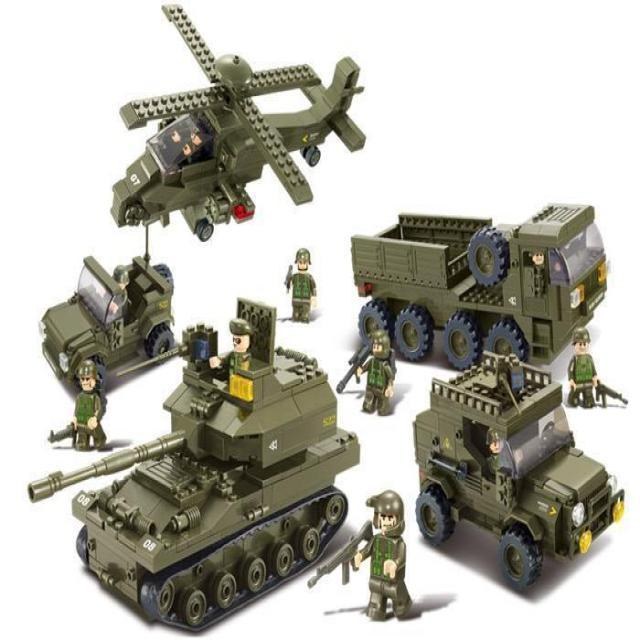MIL_MBT: (83, 362, 357, 607)
